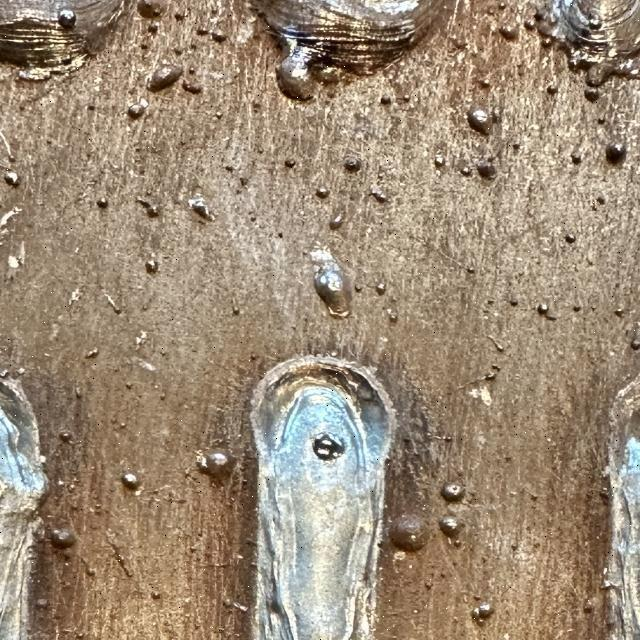Excess Reinforcement: (562, 40, 640, 71), (277, 39, 315, 101), (585, 51, 640, 87), (18, 55, 87, 81), (533, 0, 557, 48), (310, 64, 352, 86), (586, 90, 600, 101)
Spatters: (310, 249, 352, 317), (388, 514, 428, 551), (197, 449, 237, 478), (147, 64, 183, 92), (188, 194, 215, 221), (467, 109, 492, 135), (48, 529, 77, 549), (470, 602, 495, 624), (438, 516, 463, 538), (137, 196, 160, 217), (137, 0, 163, 18), (475, 158, 497, 179), (605, 144, 627, 164), (442, 482, 465, 501), (127, 99, 148, 119), (58, 10, 77, 28), (343, 155, 363, 172), (498, 25, 520, 40), (483, 364, 502, 381), (370, 186, 388, 203), (487, 335, 505, 352), (328, 214, 345, 230), (122, 474, 140, 489), (583, 88, 602, 102), (182, 81, 202, 94), (3, 171, 20, 186), (433, 154, 447, 169), (68, 289, 82, 304), (145, 259, 158, 274), (135, 331, 148, 346), (588, 16, 602, 29), (385, 309, 398, 322), (570, 151, 582, 165), (315, 188, 330, 199), (58, 431, 73, 442), (375, 282, 387, 295), (8, 256, 20, 269), (583, 601, 595, 614), (212, 32, 227, 42), (388, 309, 398, 324), (563, 234, 577, 244), (448, 538, 462, 548), (537, 304, 548, 316), (97, 198, 108, 210), (460, 166, 473, 176), (85, 349, 98, 359), (545, 85, 558, 95), (35, 599, 48, 609), (97, 198, 108, 209), (148, 22, 158, 34), (478, 79, 490, 89), (380, 95, 392, 105), (232, 304, 242, 316), (630, 339, 640, 350), (252, 101, 262, 112), (547, 85, 558, 95), (285, 159, 297, 168), (597, 195, 607, 205), (175, 11, 185, 21), (613, 308, 625, 316), (85, 568, 97, 576), (465, 266, 477, 274), (0, 369, 10, 378), (512, 142, 522, 151), (377, 172, 385, 182), (615, 309, 625, 317), (180, 8, 188, 18), (75, 631, 85, 639), (353, 284, 363, 292), (197, 29, 208, 36), (152, 591, 160, 600), (174, 46, 183, 54), (250, 352, 258, 361), (240, 178, 248, 186), (215, 111, 223, 119), (125, 382, 133, 390), (425, 582, 433, 590), (115, 306, 123, 314), (573, 305, 582, 312), (498, 2, 507, 9), (87, 105, 97, 111), (510, 299, 518, 306), (402, 94, 410, 101), (188, 68, 197, 74), (223, 136, 230, 143), (250, 216, 257, 221), (278, 232, 283, 237), (440, 572, 445, 577)
